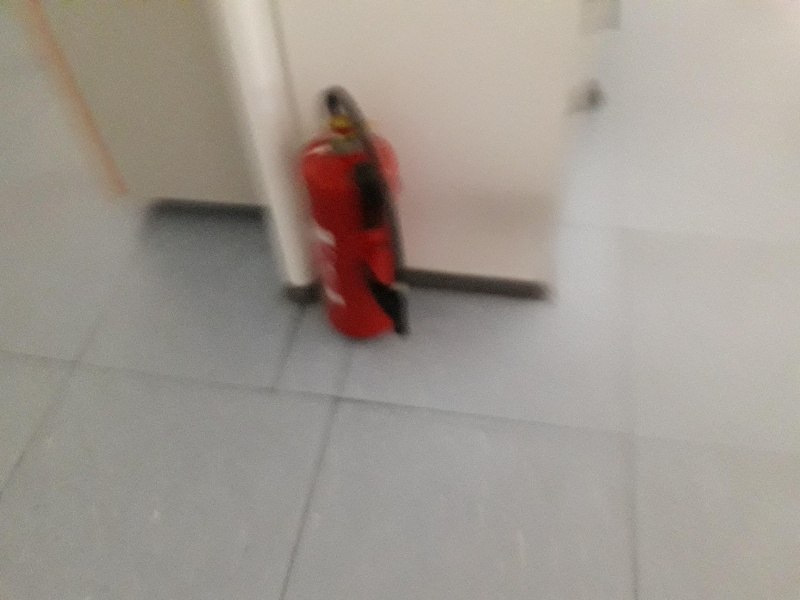vataparat: (301, 88, 410, 336)
